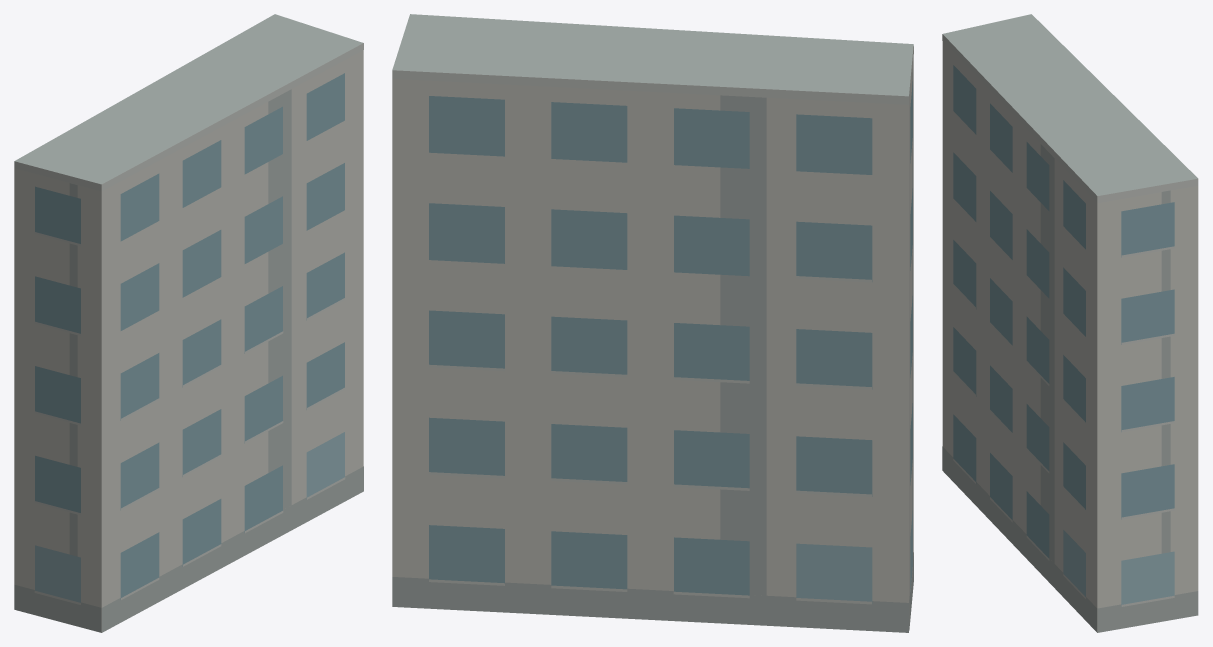
Rendered from survey-upis-32767101.glb.
3 renders of one model, left to right at view 1: azimuth 30°, elevation 25°; view 2: azimuth 150°, elevation 25°; view 3: azimuth 270°, elevation 25°, orthographic. The views are drawn at different scales.
Visible parts, largest first — view 1: survey-upis-32767101.tmp; view 2: survey-upis-32767101.tmp; view 3: survey-upis-32767101.tmp.
Boxes of the visible parts, x1=… form: survey-upis-32767101.tmp: x1=14, y1=14, x2=363, y2=632; survey-upis-32767101.tmp: x1=392, y1=14, x2=913, y2=632; survey-upis-32767101.tmp: x1=942, y1=14, x2=1198, y2=632.
Bounding box in the file's own units: 13.65 × 15.25 × 8.11.
